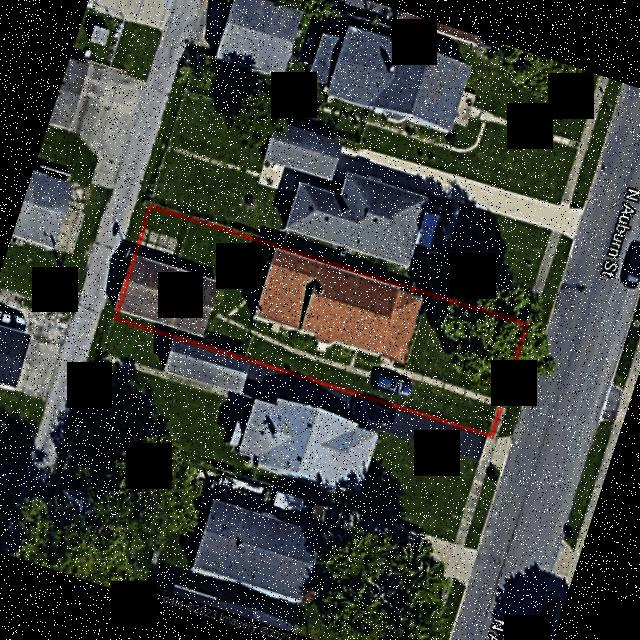Driveway: (210, 306, 408, 391), (376, 355, 497, 406)
Extra Driveway: (105, 239, 135, 302)
Extra Lawn: (496, 375, 531, 438), (123, 200, 148, 246), (100, 294, 115, 319)
House: (255, 249, 422, 362)
Other: (121, 254, 216, 335), (253, 315, 295, 334), (315, 339, 331, 352)
Sidewalk: (136, 228, 260, 293), (244, 241, 274, 288), (224, 288, 261, 317)
